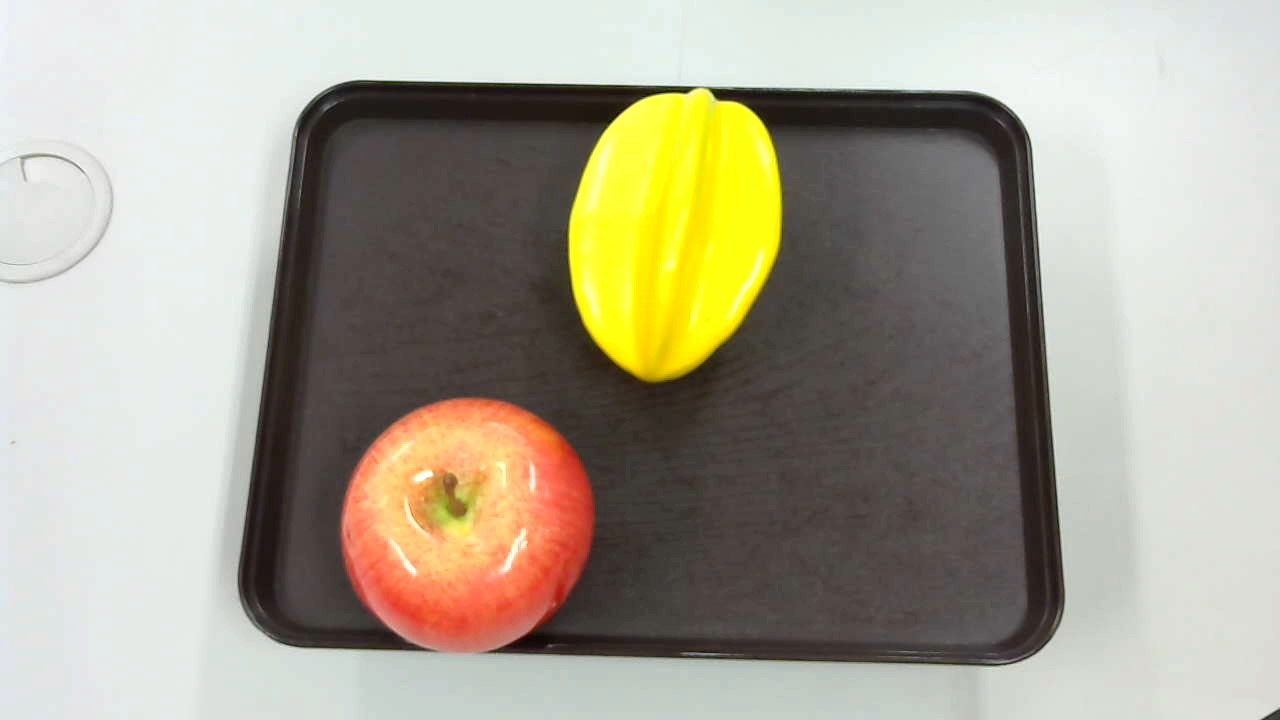red apple: (335, 395, 596, 649)
star fruit: (558, 83, 791, 385)
